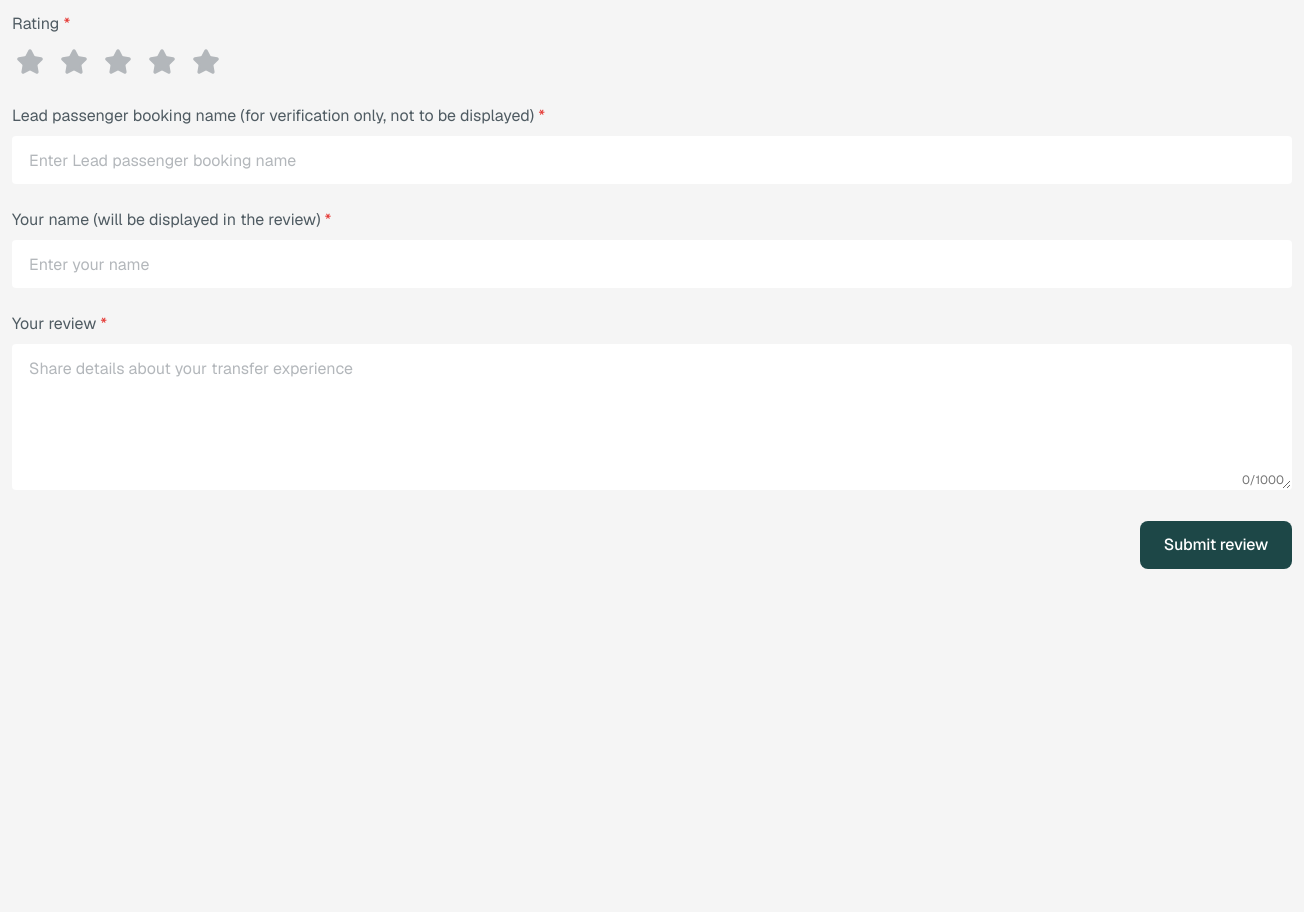
Test: ReviewForm › shows validation errors on submit when fields are empty
The image size is (1304, 912).
Click the button "Submit review": (1216, 545) [1140, 521, 1292, 569]
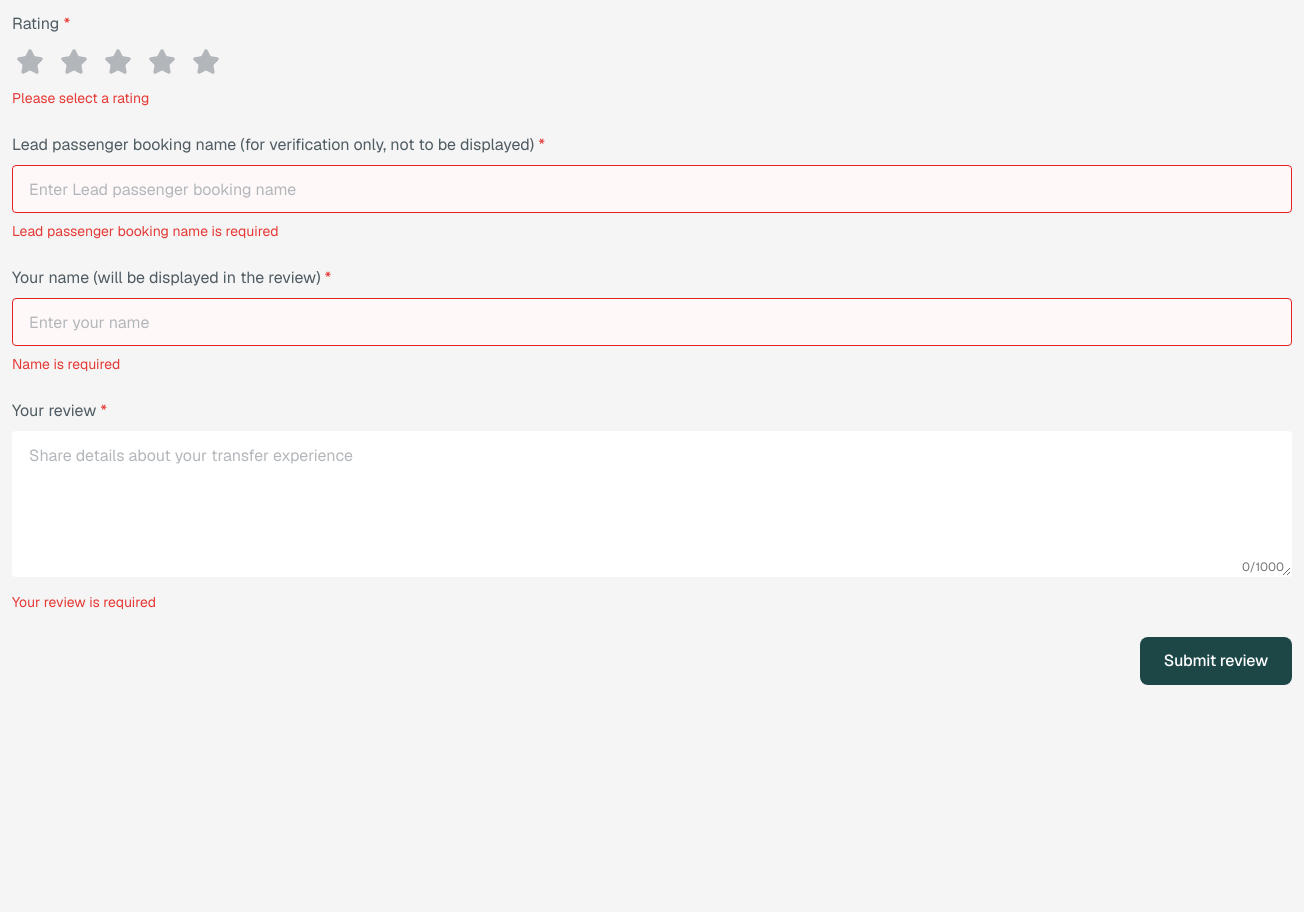
Check: the text "Please select a rating" is shown, box [12, 89, 149, 107]
Check: the text "Lead passenger booking name is required" is shown, box [12, 222, 278, 240]
Check: the text "Your review is required" is shown, box [12, 593, 156, 611]
